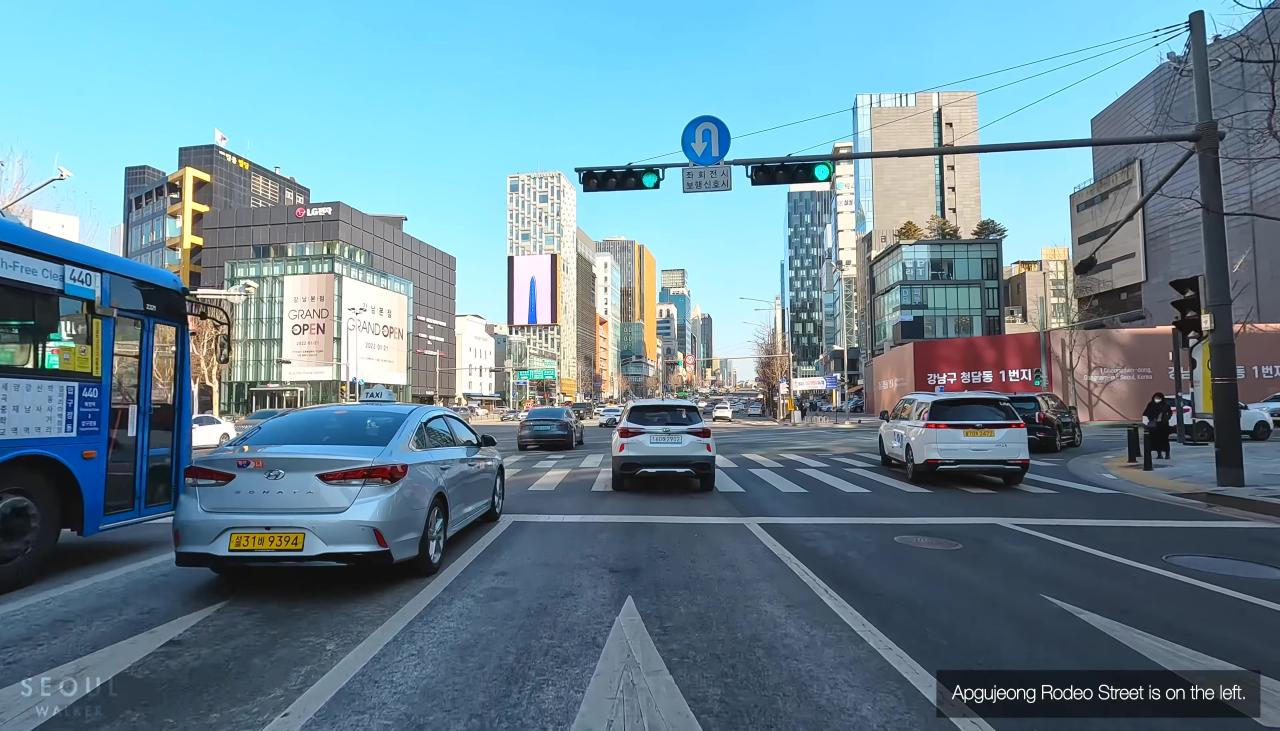Green Light: (640, 169, 660, 190), (813, 161, 831, 182)
